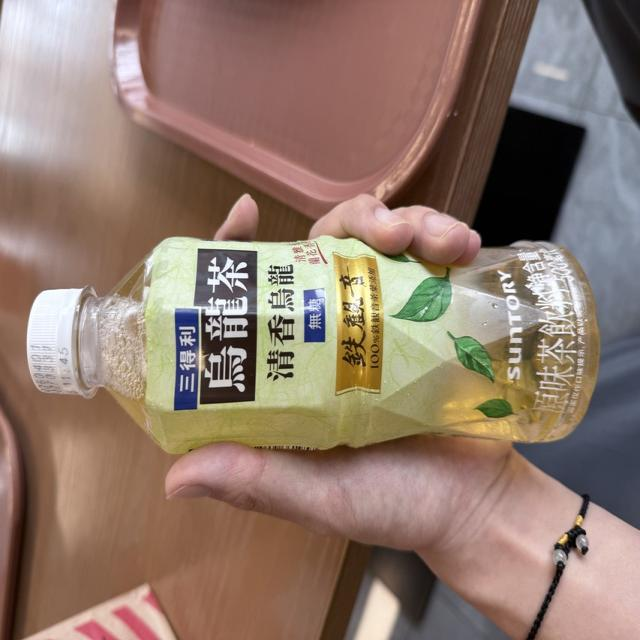high: (27, 235, 599, 453)
